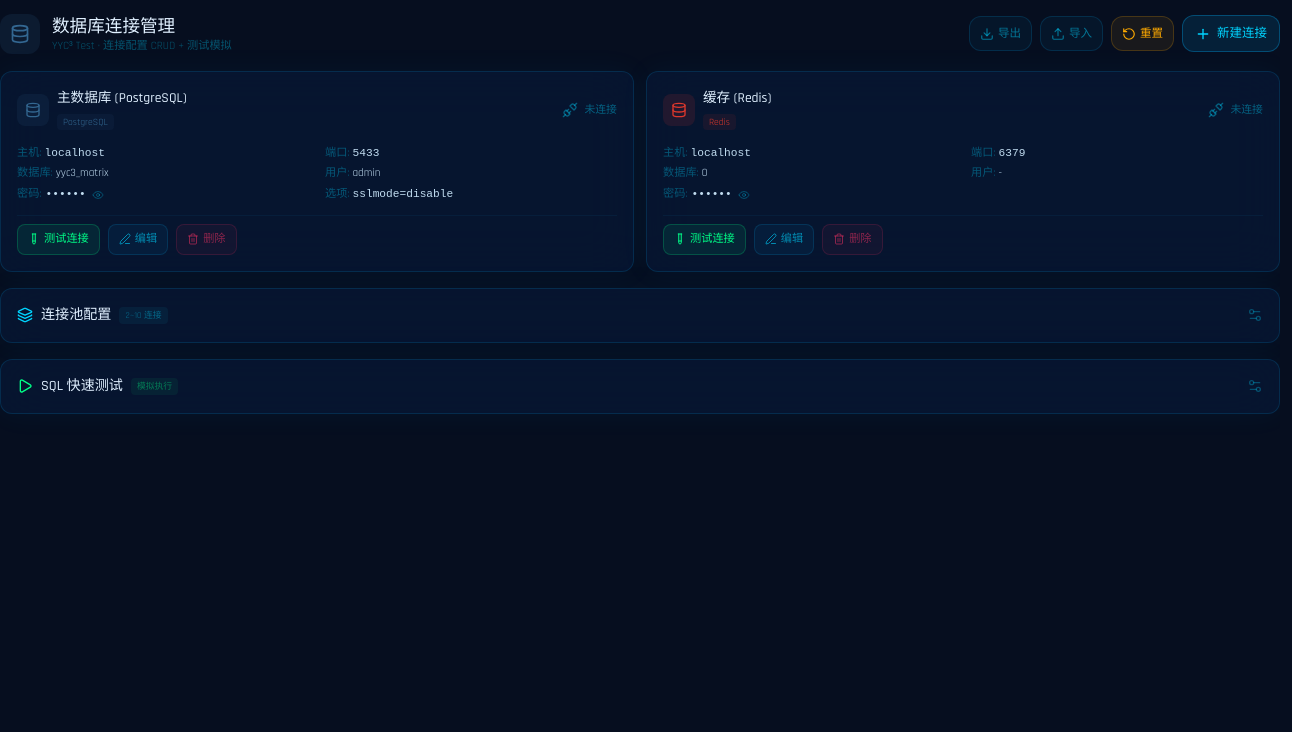
DatabaseConnectionPanel › should expand SQL 快速测试 when clicked
Click the heading "SQL 快速测试" at (82, 386), box [41,376,123,397]
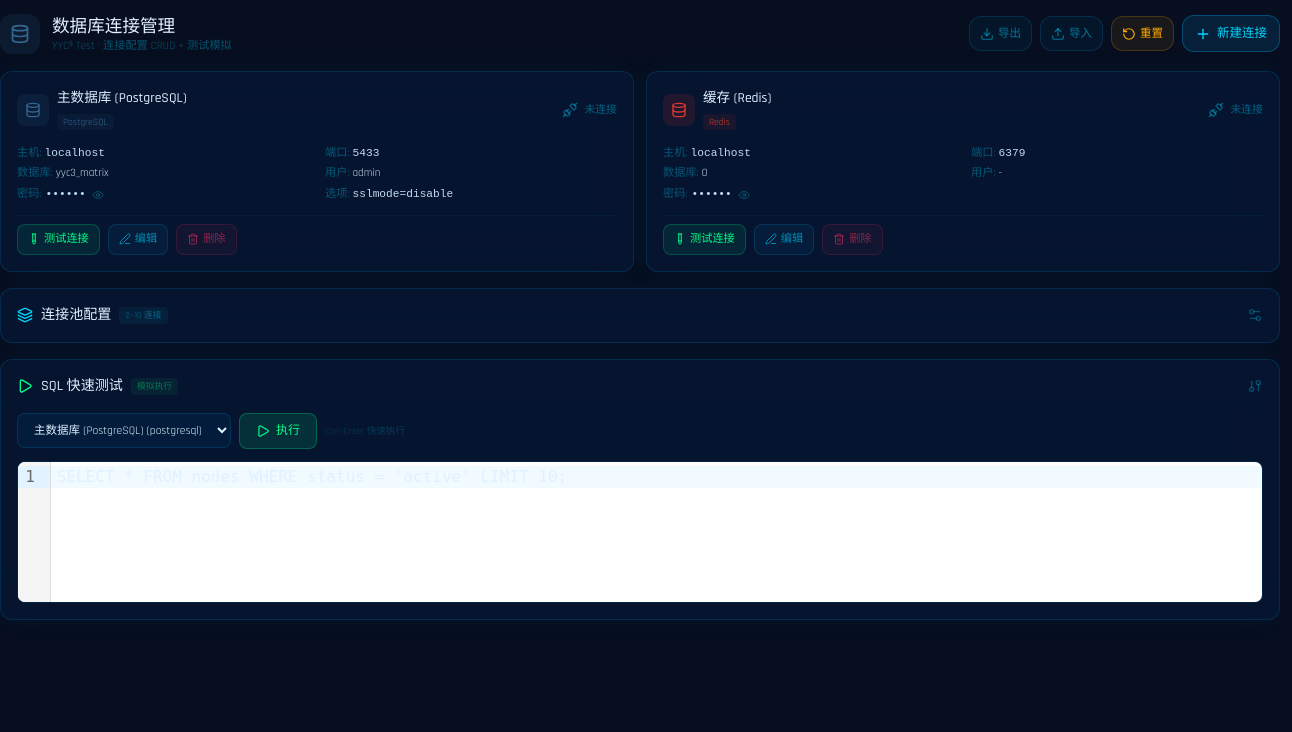
Check: the button "执行" is shown, box [239,413,317,449]
